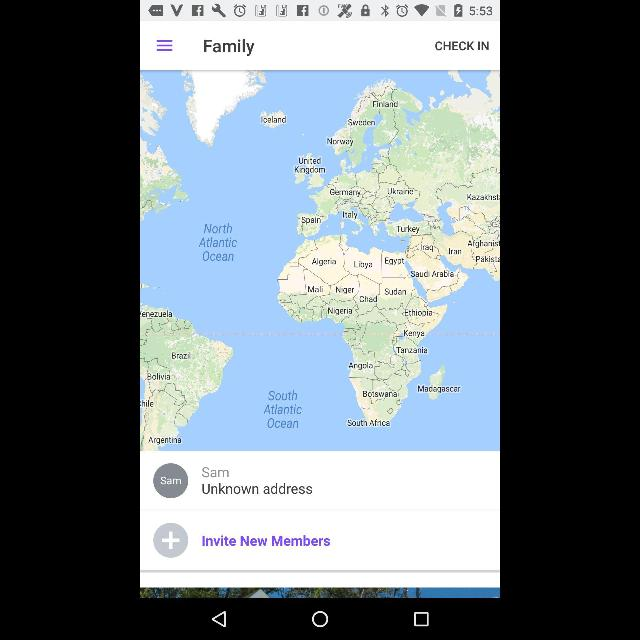icon: (154, 523, 188, 557), (311, 610, 329, 628), (154, 38, 173, 54), (211, 610, 227, 628), (413, 610, 429, 628)
map: (140, 70, 500, 452)
panel: (140, 21, 500, 70), (141, 598, 499, 640)
text: (202, 469, 314, 497), (154, 464, 188, 498), (203, 40, 255, 56)
textbutton: (200, 536, 332, 548), (434, 41, 490, 53)
uppertaskbar: (140, 3, 500, 21)
